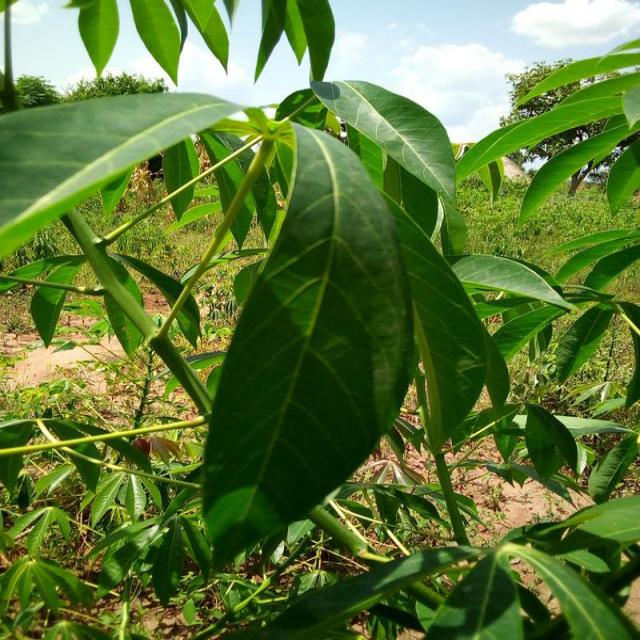cassava leaf: (199, 118, 418, 568)
